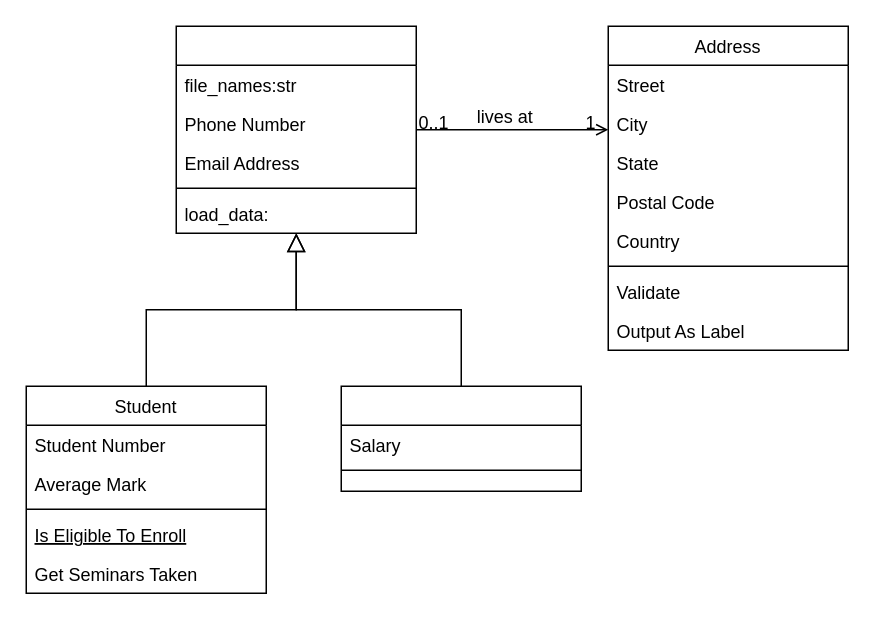
Some shapes in this 875 by 624 pixel diagram are drawn without their labels. The shapes that lost their labels are listed below. From the top down, each one's box as (x1, y1, x2, y2) in pixels, then its label:
(175, 25, 416, 233): DataLoader
(340, 385, 581, 491): Professor
